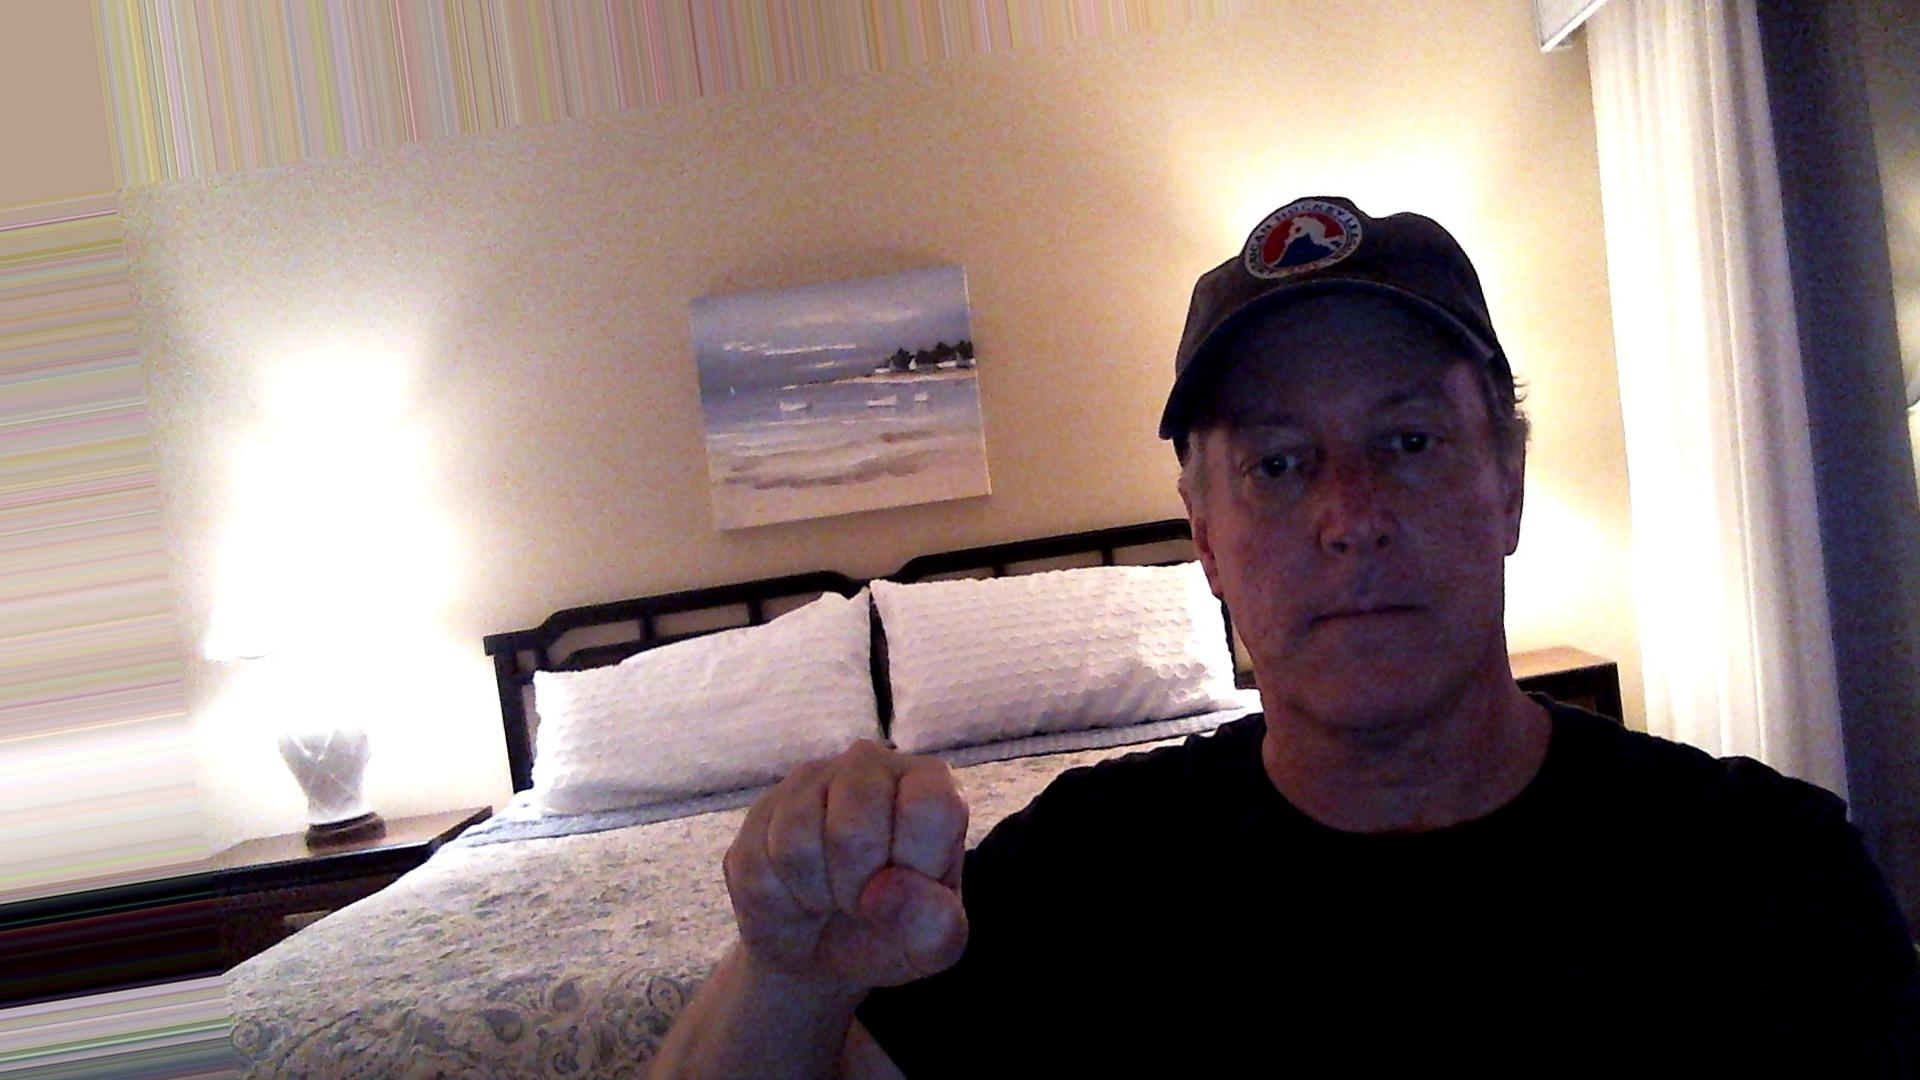Yes: (699, 724, 1005, 1004)
